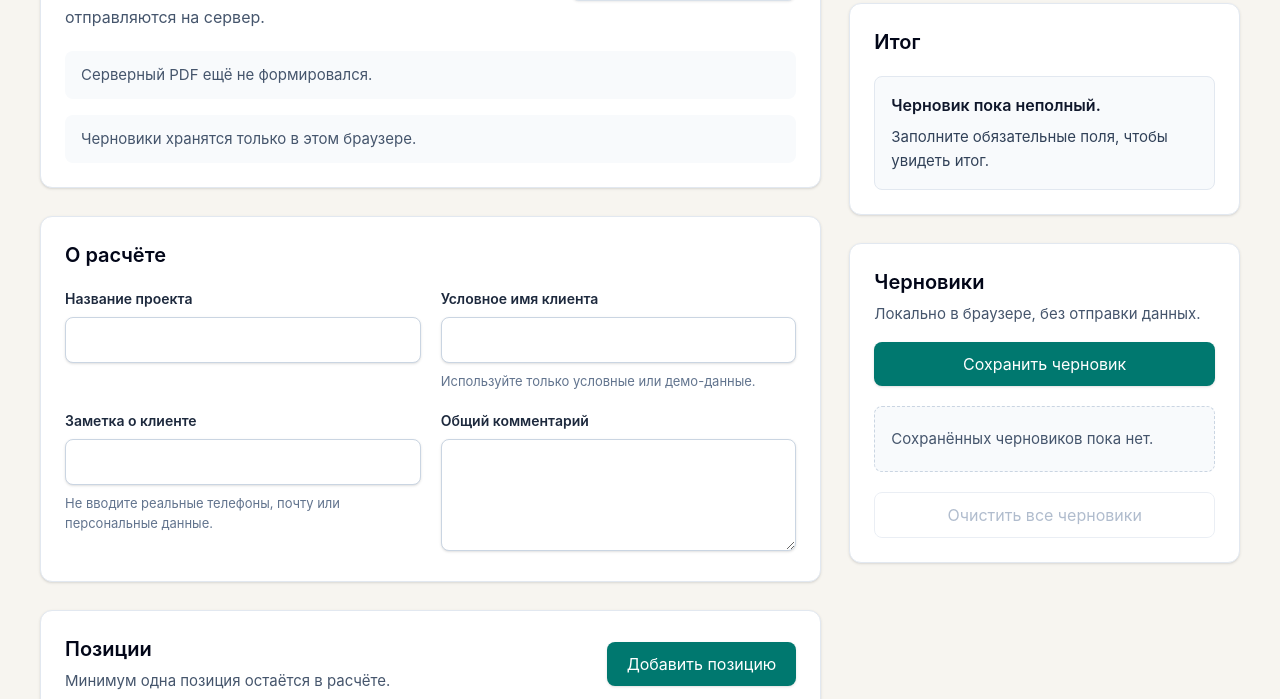
Test: QuoteFlow UI › saves a draft
The width and height of the screenshot is (1280, 699).
(page scrolled)
In the field labelled "Название проекта": [243, 340] box [65,317,421,363], type "Новый расчёт"
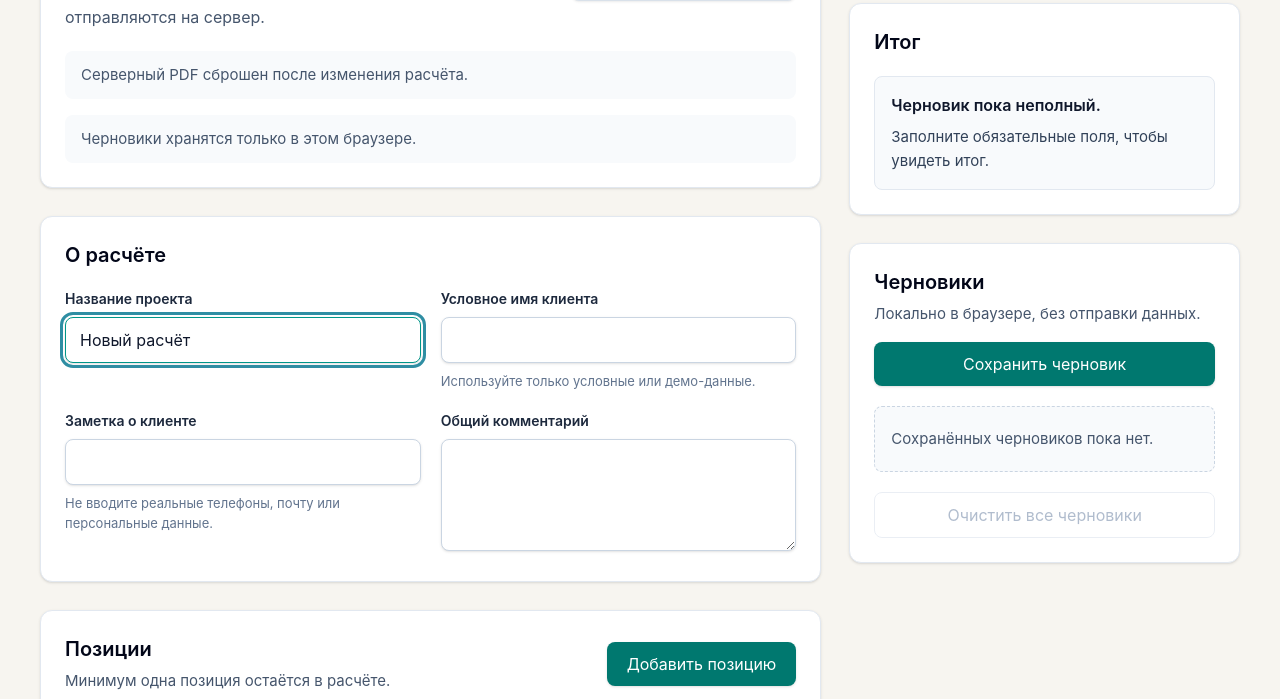
Click the button "Сохранить черновик": [1045, 364] box [874,342,1215,386]
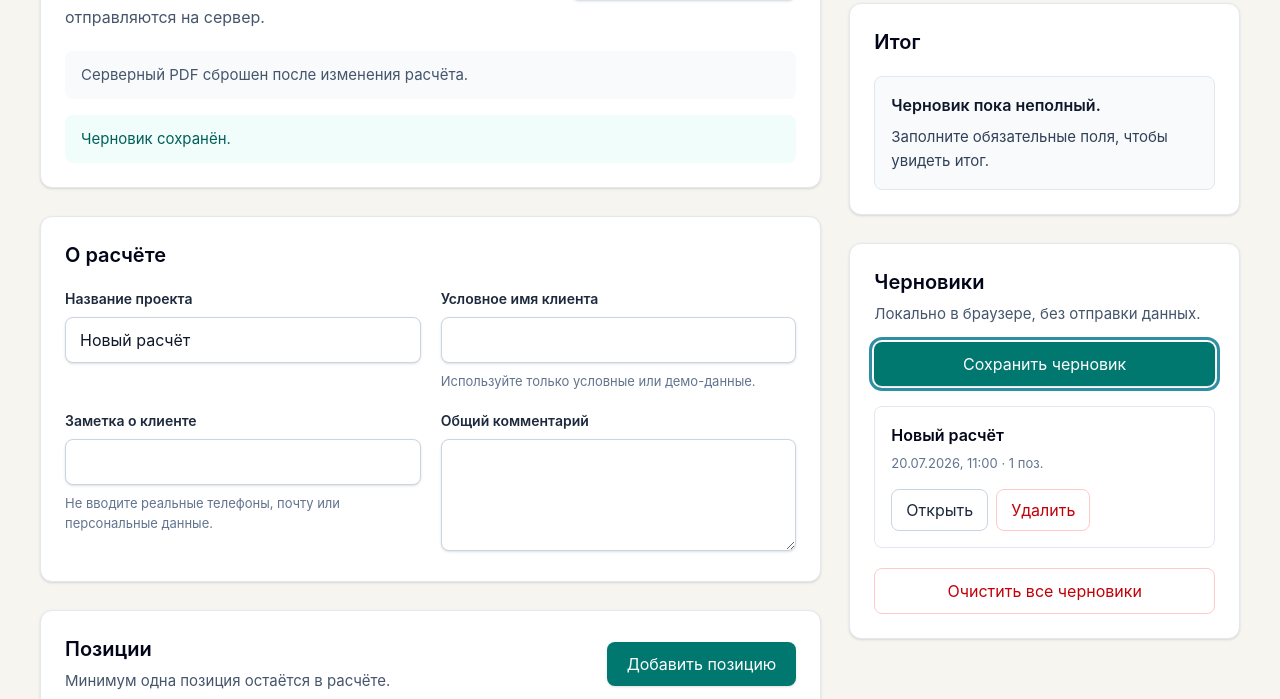
Check: the text "Черновик сохранён." is shown, box [65,115,796,163]
Check: the heading "Новый расчёт" is shown, box [891,425,1004,445]
